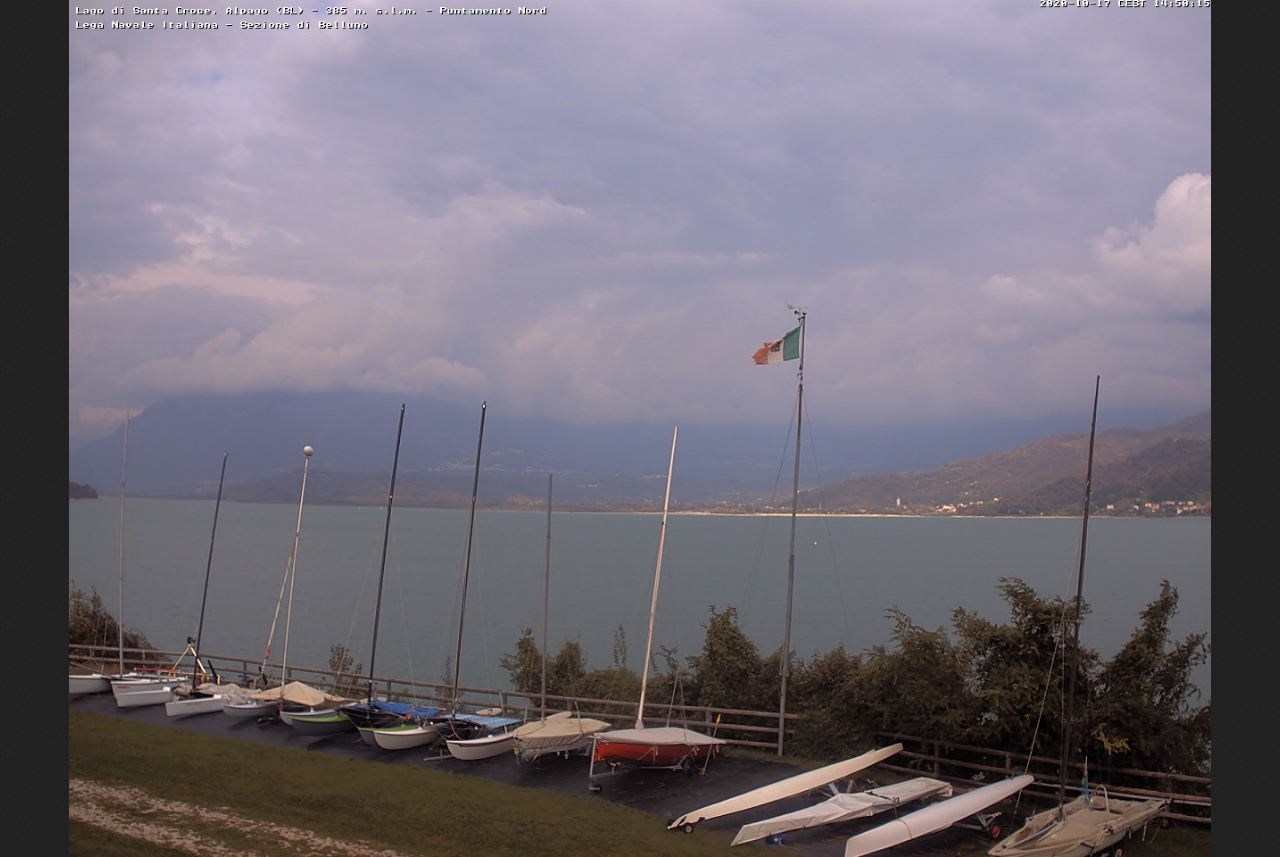yes: (753, 323, 803, 370)
